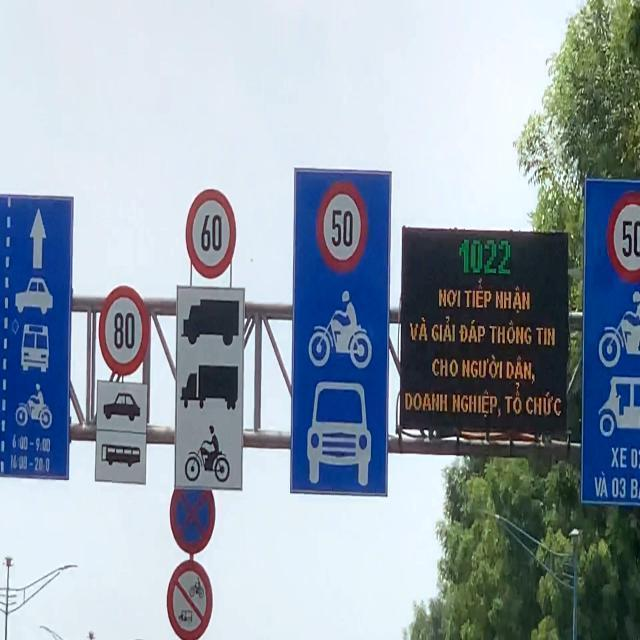127-toc-do-toi-da-50: (314, 182, 366, 274), (604, 197, 640, 281)
127-toc-do-toi-da-60: (182, 190, 242, 278)
127-toc-do-toi-da-80: (98, 285, 150, 375)
130-cam-dung-va-do-xe: (169, 478, 217, 554)
